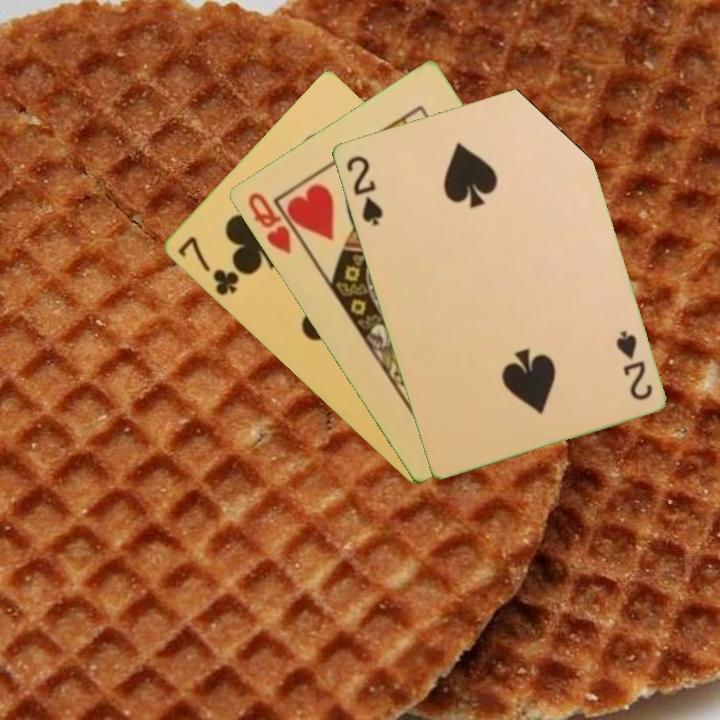2s: (342, 151, 386, 229), (611, 327, 655, 403)
7c: (174, 233, 242, 299)
Qh: (243, 189, 307, 257)
